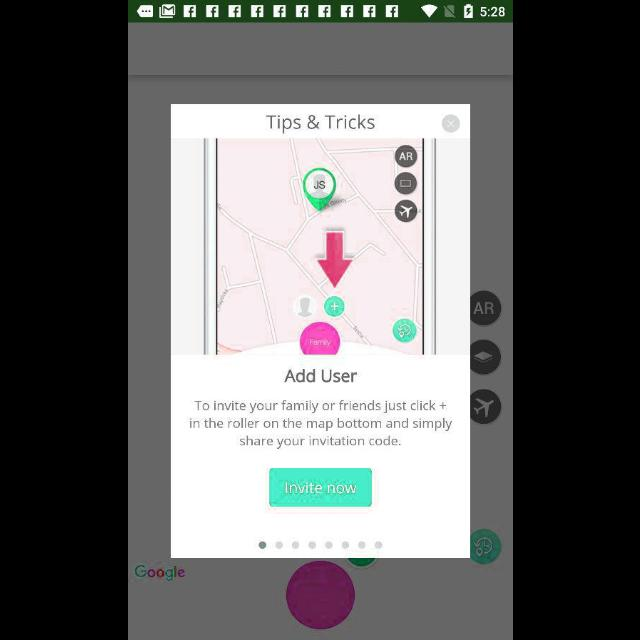icon: (442, 116, 458, 132)
image: (171, 140, 469, 356)
pageindicator: (258, 541, 382, 549)
panel: (170, 105, 470, 558)
text: (188, 401, 452, 449), (266, 116, 374, 134), (284, 368, 356, 382)
textbutton: (268, 468, 372, 506)
uppertaskbar: (128, 1, 512, 23)
